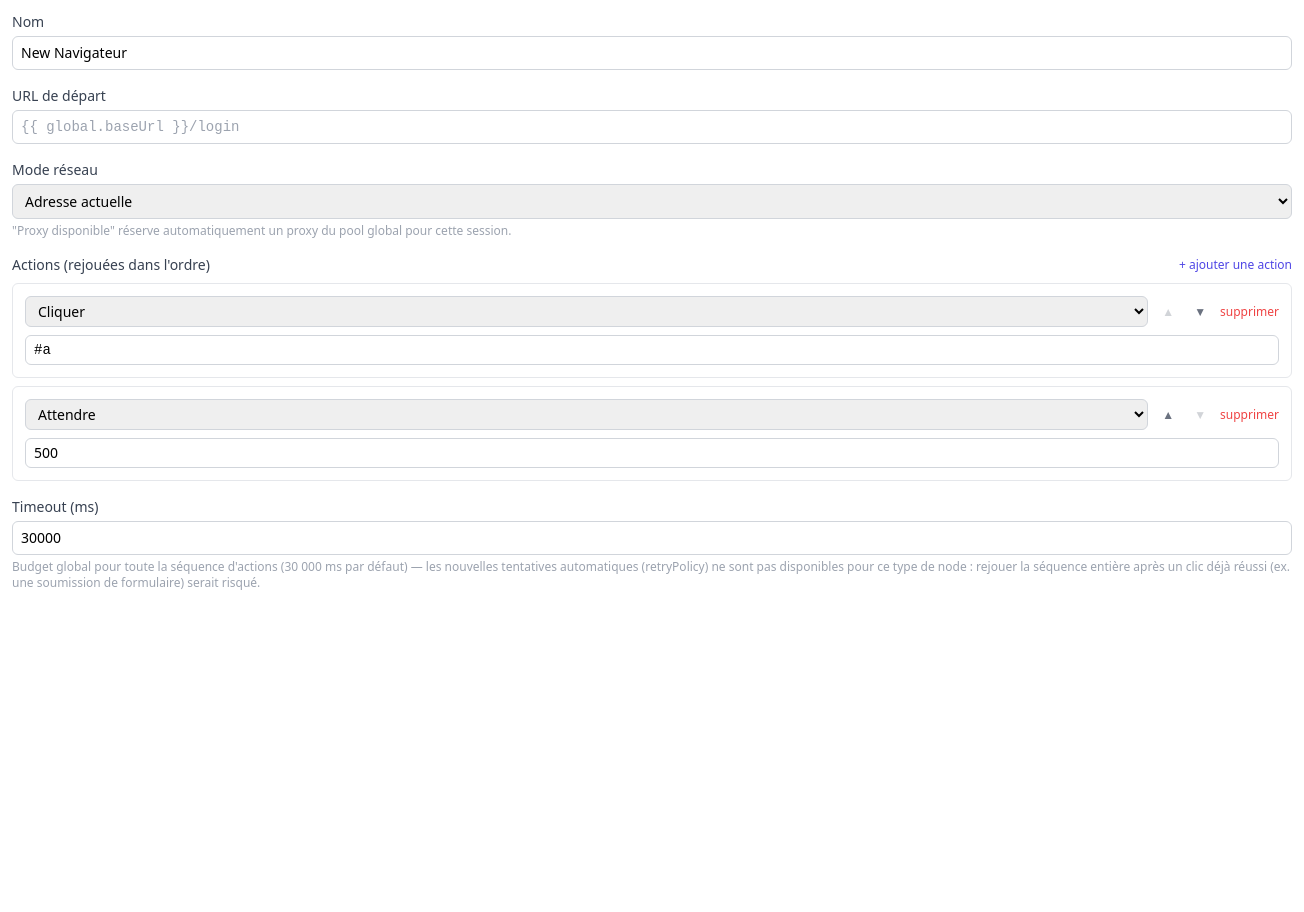
BrowserActionNodeInspector › only offers 'réenregistrer' once a startUrl is set, and only for step types the live recorder can actually produce
This screenshot has width=1304, height=912.
Expected: the text "🔄 réenregistrer" is not shown
Type "https://example.com/login" into the field with placeholder "{{ global.baseUrl }}/login" at x=652, y=127, box [12,110,1292,144]
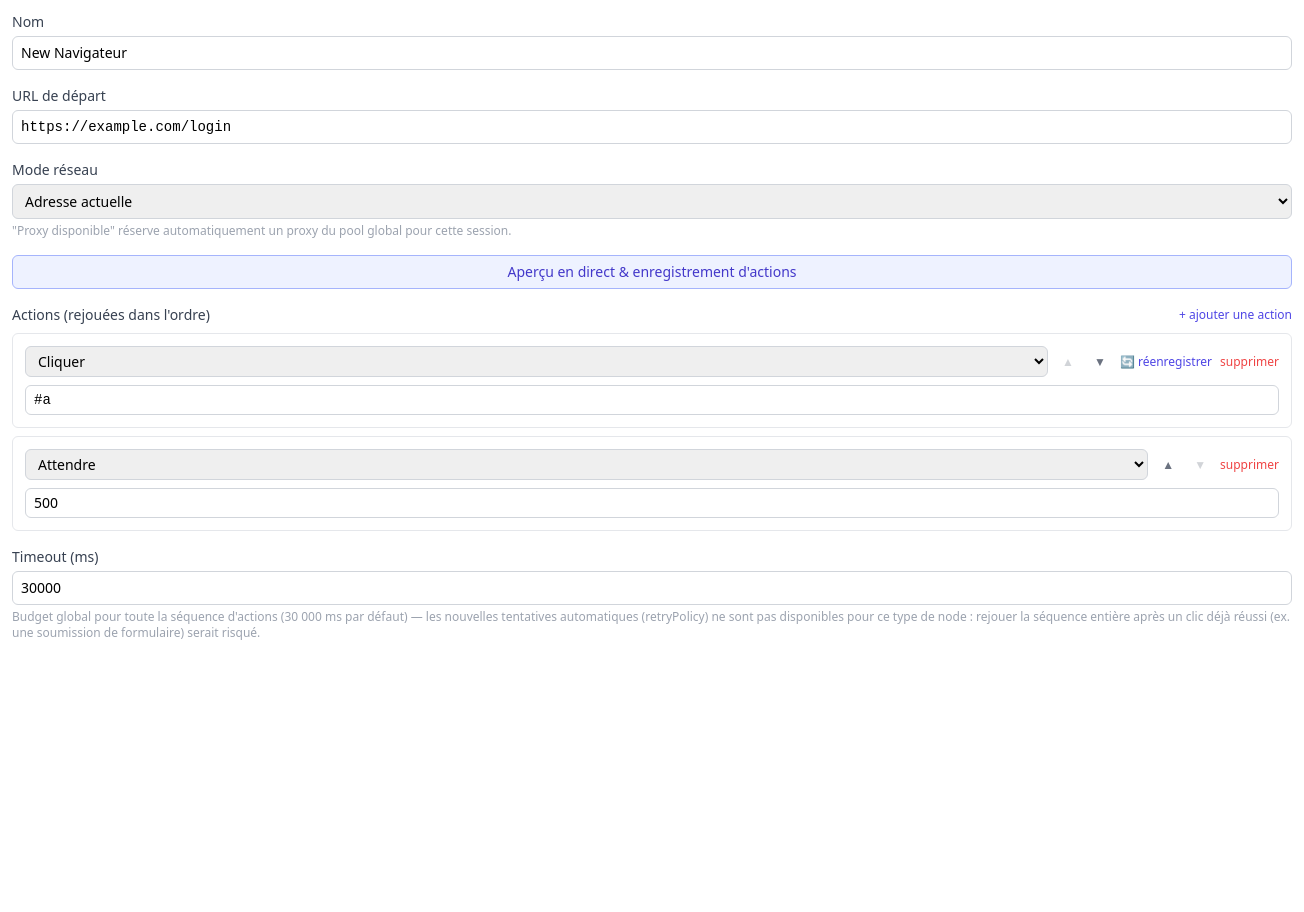
Expected: the number of buttons "🔄 réenregistrer" is 1, [1120,354,1212,370]
